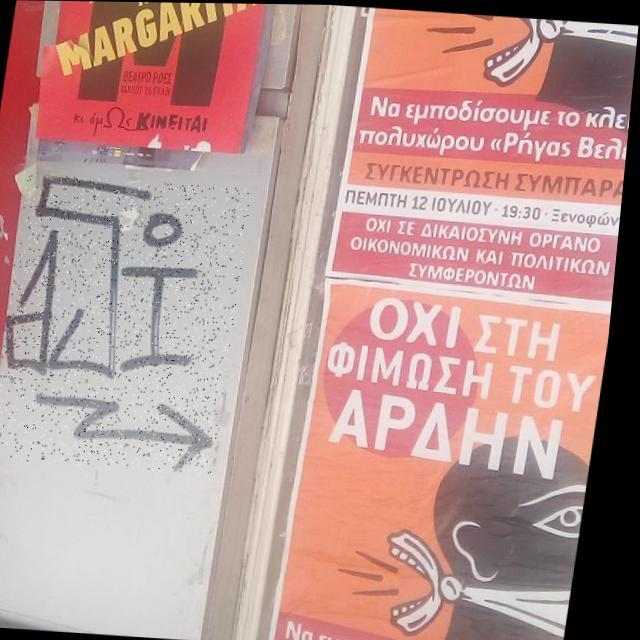-: (0, 174, 258, 474)
